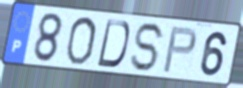6: (199, 29, 228, 78)
8: (32, 12, 64, 63)
D: (95, 18, 131, 69)
O: (64, 15, 99, 67)
P: (160, 26, 198, 75)
S: (128, 21, 168, 74)
